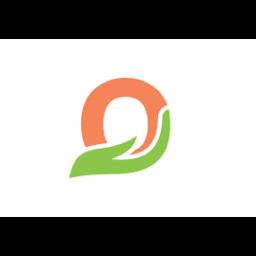o: (62, 70, 180, 192)
